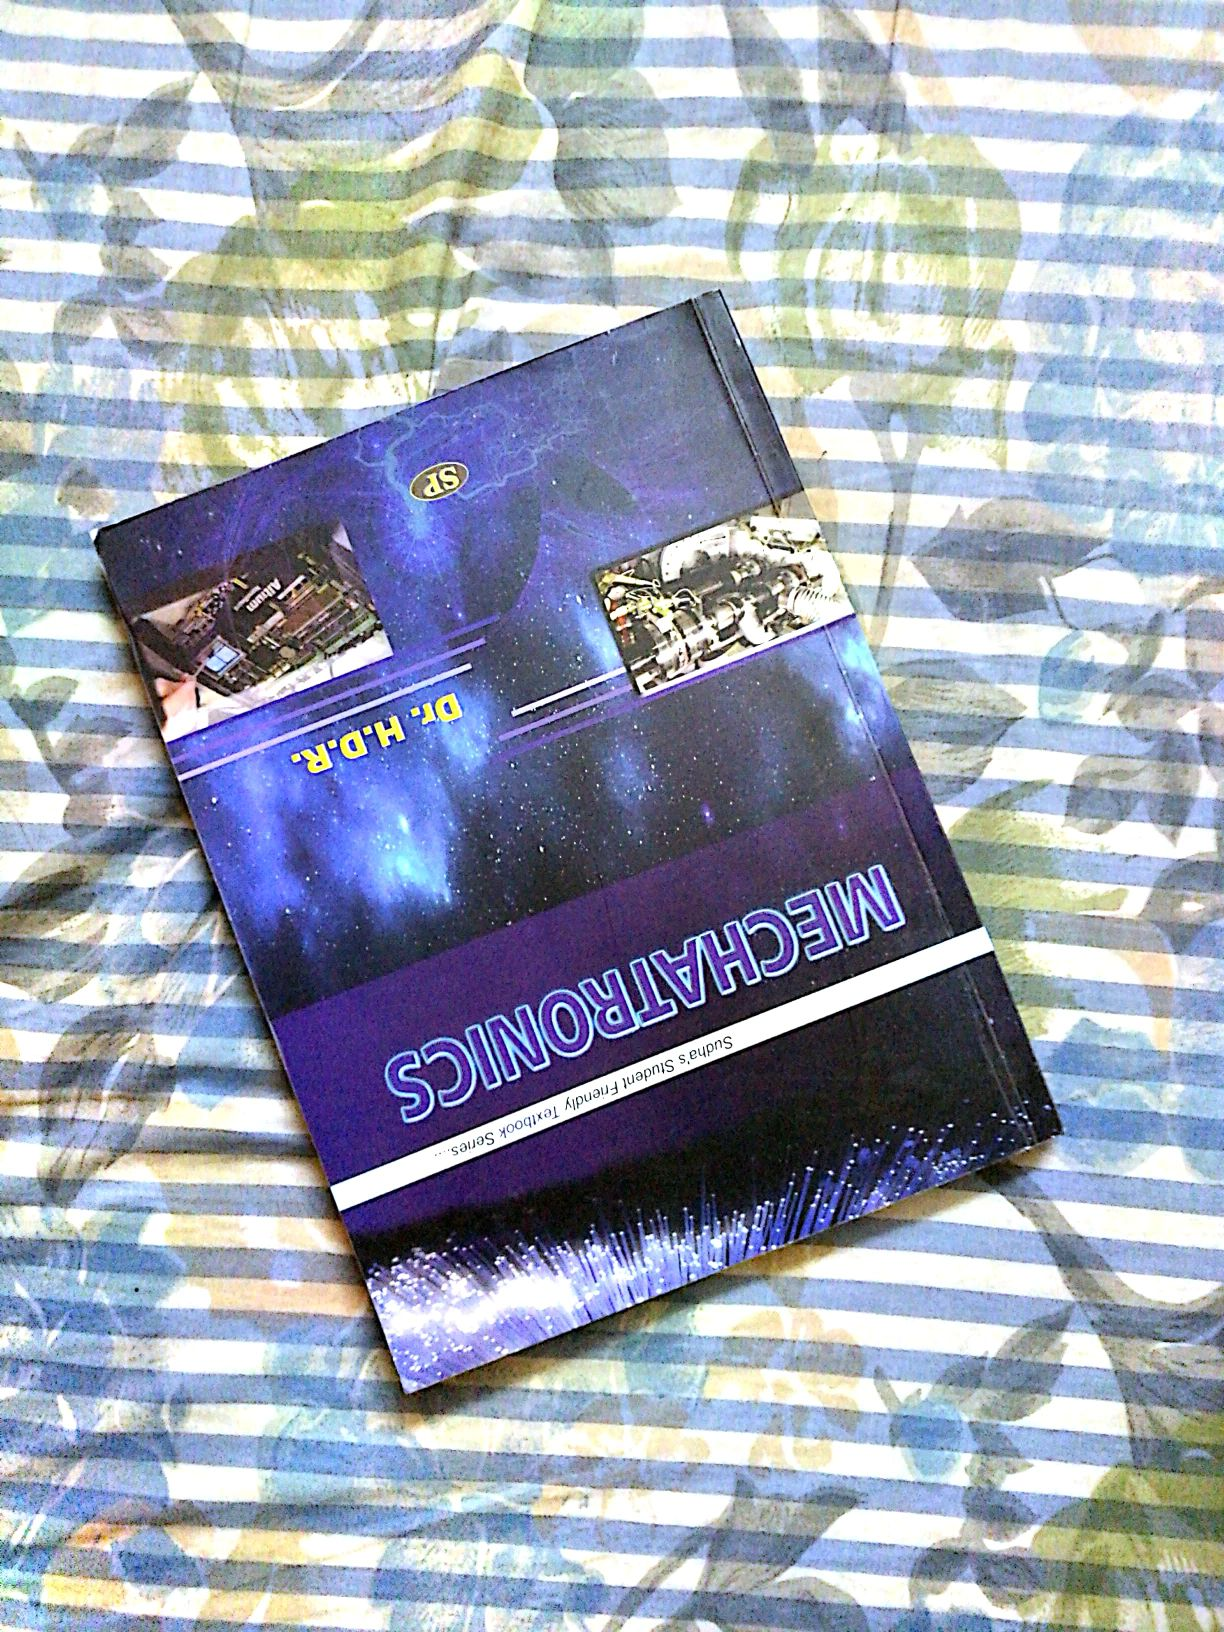mechatronics: (49, 298, 1140, 1336)
